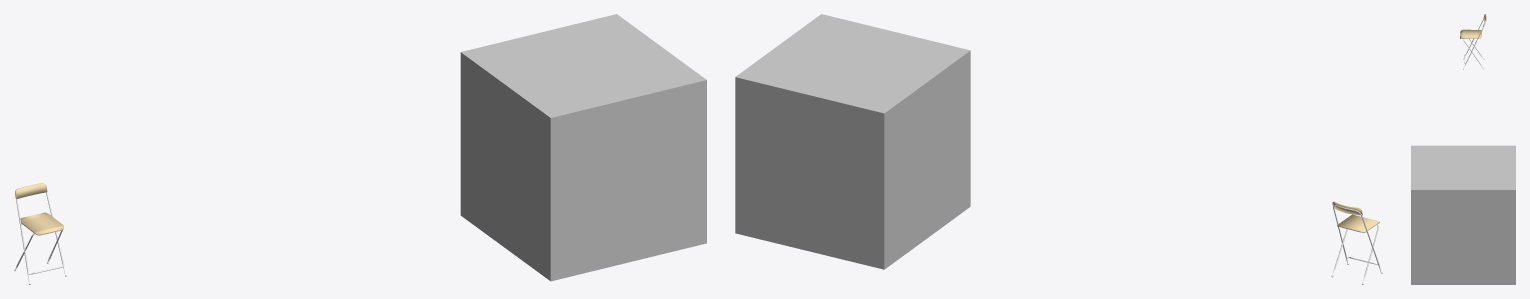
File: lowpolychair.dae
3 views of the same model, side by side, from view 1: azimuth 30°, elevation 25°; view 2: azimuth 150°, elevation 25°; view 3: azimuth 270°, elevation 25° (orthographic). The views are drawn at different scales.
Visible parts, largest first — view 1: Cube, Group01, Loft03; view 2: Cube, Group01, Loft03; view 3: Cube, Group01, Loft03.
Part boxes in pixels (x1=…): Cube: x1=460, y1=14, x2=706, y2=281; Group01: x1=15, y1=183, x2=63, y2=235; Loft03: x1=14, y1=192, x2=66, y2=284; Cube: x1=735, y1=14, x2=970, y2=269; Group01: x1=1332, y1=201, x2=1379, y2=232; Loft03: x1=1331, y1=205, x2=1382, y2=284; Cube: x1=1411, y1=145, x2=1515, y2=284; Group01: x1=1460, y1=14, x2=1486, y2=38; Loft03: x1=1463, y1=18, x2=1486, y2=69.
Size of the model in its own units: 8.1 by 2 by 2.
